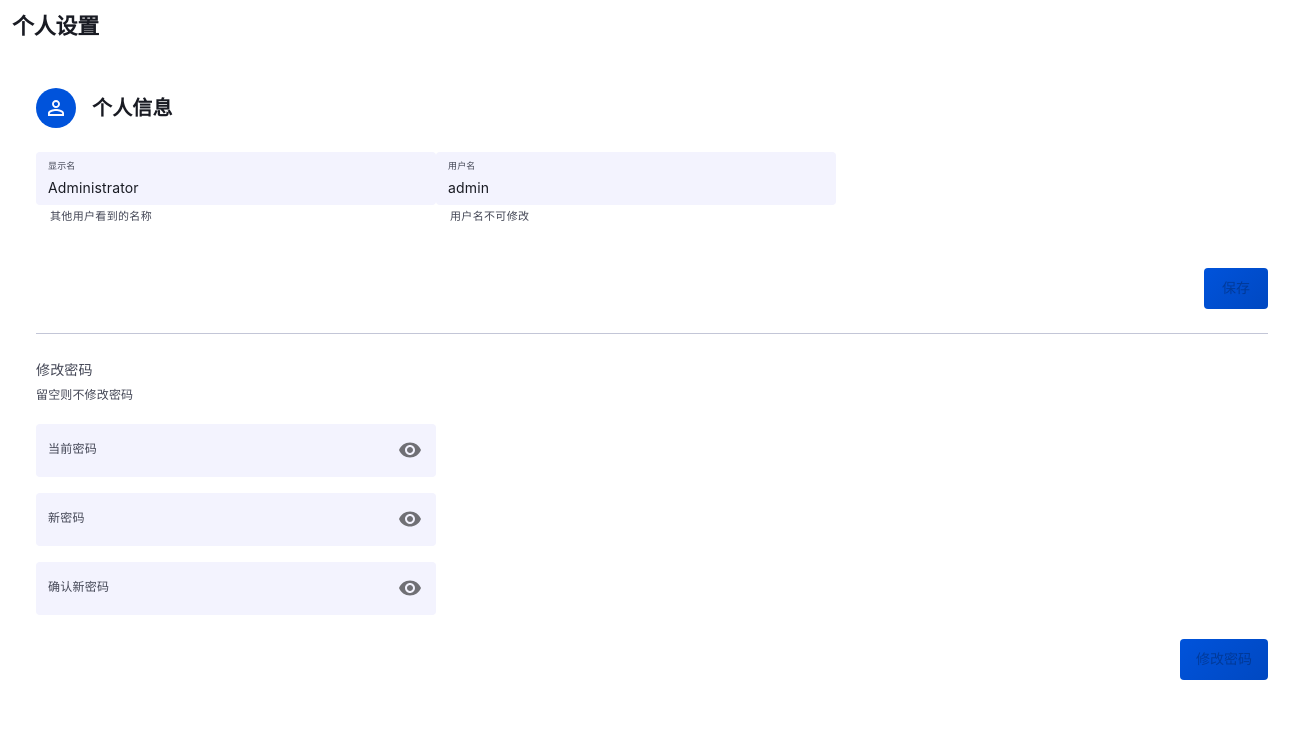
Test: Settings › saves profile successfully
Replace the text in the field labelled "显示名" with "New Name": x=236, y=179 [36,152,436,205]
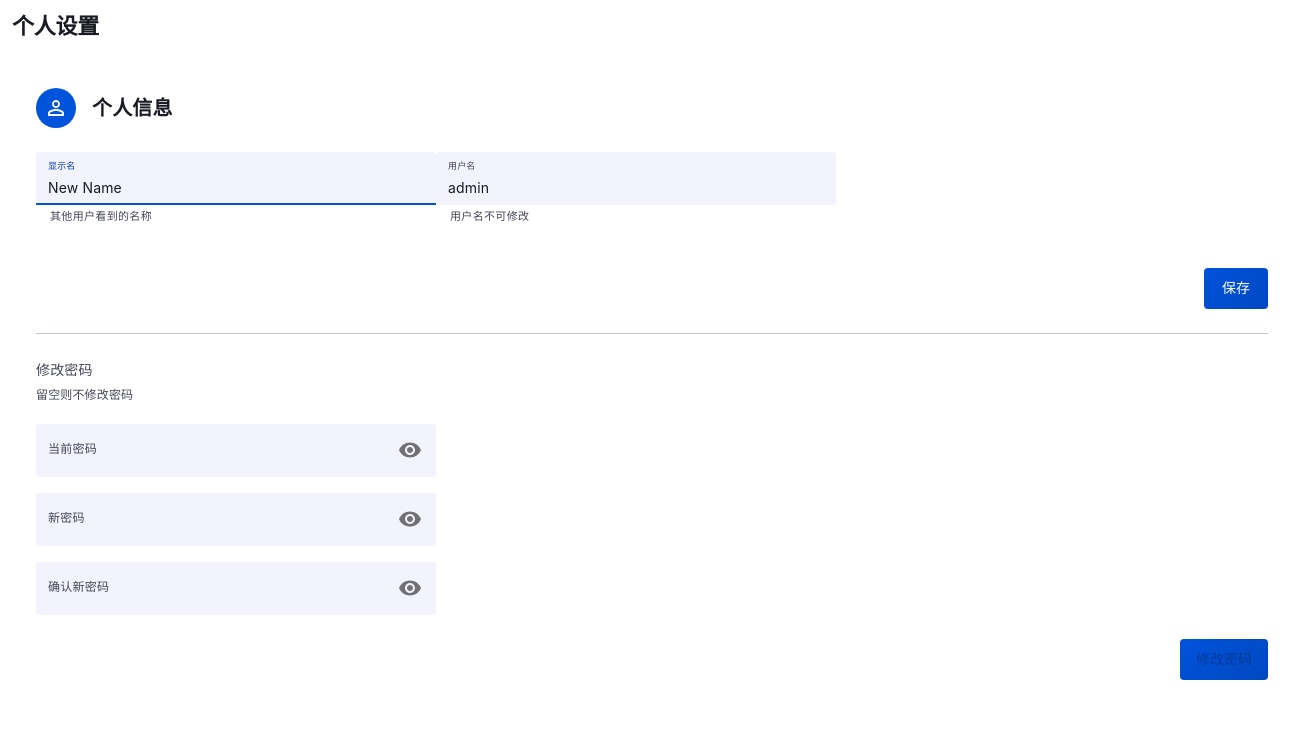
Click the button "保存": x=1236, y=288 [1204,268,1268,309]
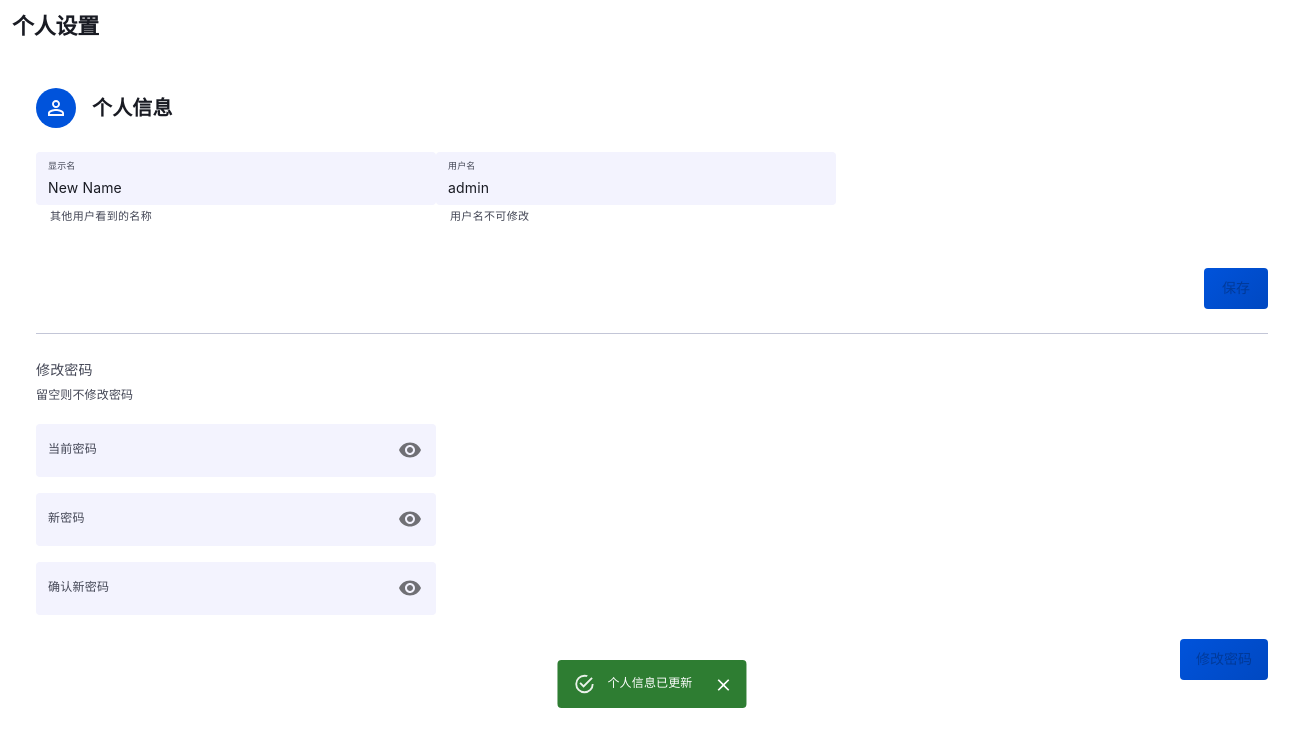
Expected: the text "个人信息已更新" is shown, [608,675,693,690]
